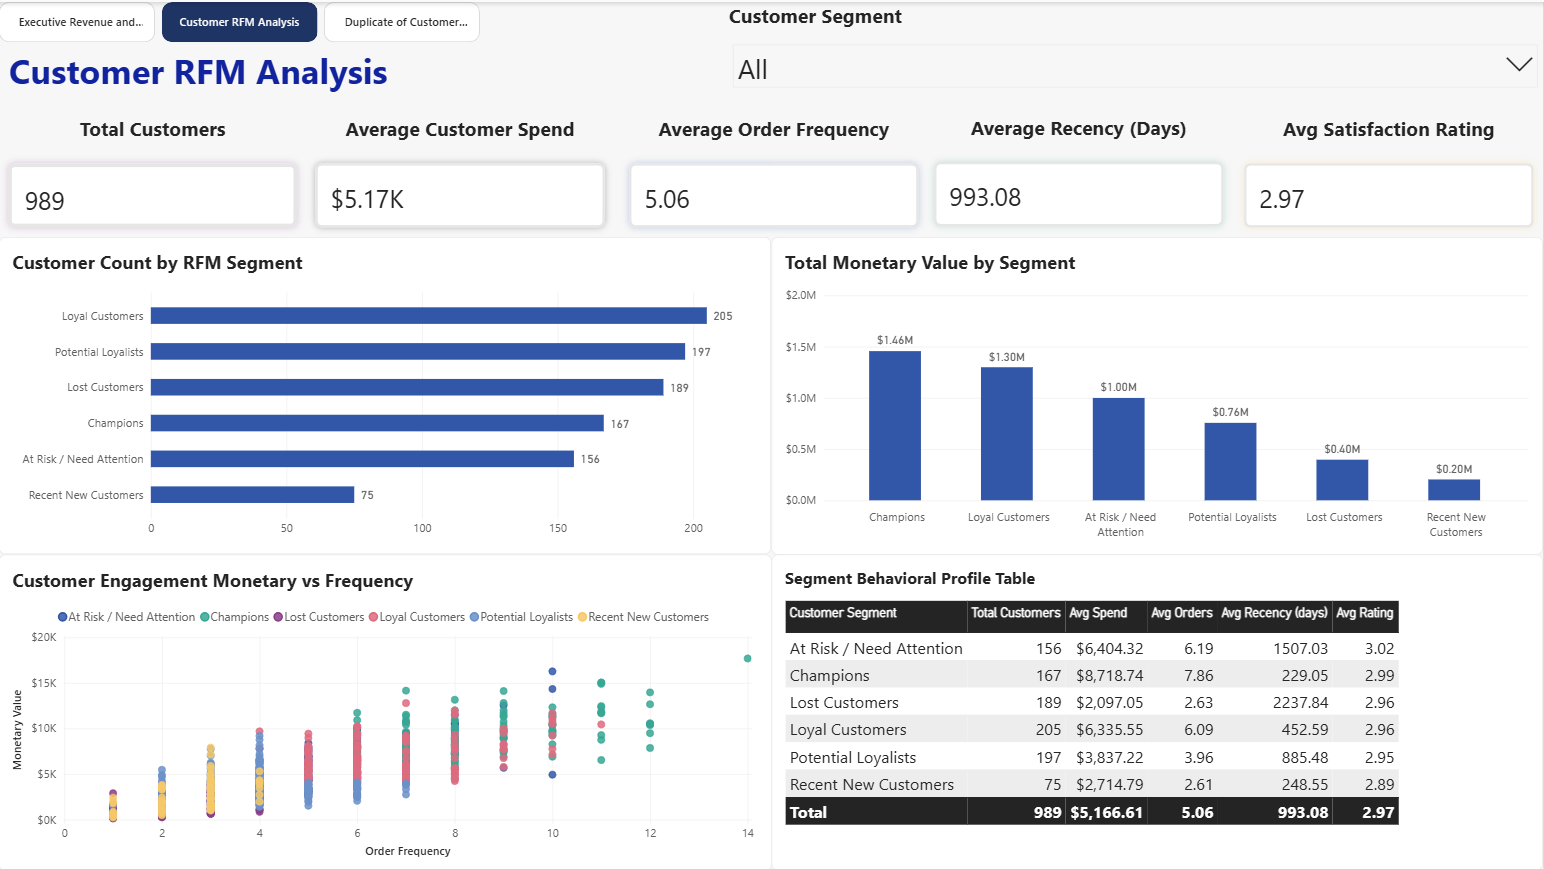

The page's visual inventory and layout, read from the dashboard file:
{"tool":"powerbi","page":{"name":"Customer RFM Analysis","canvas":[1920,1080],"ordinal":1},"visuals":[{"type":"textbox","box":[12.6,0,895.3,120.4],"z":0},{"type":"cardVisual","title":"Average Recency (Days)","fields":{"Data":["Avg(vw_customer_rfm_segments.recency_days)"]},"box":[1152.4,140.2,382,150.5],"z":1000},{"type":"cardVisual","title":"Average Customer Spend","fields":{"Data":["Avg(vw_customer_rfm_segments.monetary)"]},"box":[382.6,142.1,382,150],"z":2000},{"type":"cardVisual","title":"Average Order Frequency","fields":{"Data":["Avg(vw_customer_rfm_segments.frequency)"]},"box":[771.8,142.1,382,150],"z":3000},{"type":"cardVisual","title":"Total Customers","fields":{"Data":["_Measures.Total Customers"]},"box":[0,142,382,150],"z":4000},{"type":"cardVisual","title":"Avg Satisfaction Rating","fields":{"Data":["Avg(vw_customer_rfm_segments.avg_rating)"]},"box":[1537,142.1,382,150],"z":5000},{"type":"slicer","title":"Customer Segment","fields":{"Values":["vw_customer_rfm_segments.customer_segment"]},"box":[907.9,0,1010.3,120.4],"z":6000},{"type":"clusteredBarChart","title":"Customer Count by RFM Segment","fields":{"Category":["vw_customer_rfm_segments.customer_segment"],"Y":["CountNonNull(vw_customer_rfm_segments.customer_id)"]},"box":[0,293,960,394],"z":8000},{"type":"clusteredColumnChart","title":"Total Monetary Value by Segment","fields":{"Category":["vw_customer_rfm_segments.customer_segment"],"Y":["Sum(vw_customer_rfm_segments.monetary)"]},"box":[960.9,291.9,959.1,395.2],"z":9000},{"type":"scatterChart","title":"Customer Engagement   Monetary vs Frequency","fields":{"Category":["vw_customer_rfm_segments.customer_id"],"Series":["vw_customer_rfm_segments.customer_segment"],"X":["vw_customer_rfm_segments.frequency"],"Y":["vw_customer_rfm_segments.monetary"]},"box":[0,687.1,960.9,393.4],"z":10000},{"type":"tableEx","title":"Segment Behavioral Profile Table","fields":{"Values":["vw_customer_rfm_segments.customer_segment","vw_customer_rfm_segments.customer_id","vw_customer_rfm_segments.monetary","vw_customer_rfm_segments.frequency","vw_customer_rfm_segments.recency_days","vw_customer_rfm_segments.avg_rating"]},"box":[961,687,959,393],"z":11000},{"type":"pageNavigator","box":[0,0,600,50],"z":11001}]}

Visuals, with their boxes on the page's 1920x1080 design canvas (x1, y1, x2, y2). These are canvas units, not pixel positions in the 1544x869 screenshot, which may show the page scaled, cropped or inside an application window:
textbox: x1=13 y1=0 x2=908 y2=120
"Average Recency (Days)" cardVisual: x1=1152 y1=140 x2=1534 y2=291
"Average Customer Spend" cardVisual: x1=383 y1=142 x2=765 y2=292
"Average Order Frequency" cardVisual: x1=772 y1=142 x2=1154 y2=292
"Total Customers" cardVisual: x1=0 y1=142 x2=382 y2=292
"Avg Satisfaction Rating" cardVisual: x1=1537 y1=142 x2=1919 y2=292
"Customer Segment" slicer: x1=908 y1=0 x2=1918 y2=120
"Customer Count by RFM Segment" clusteredBarChart: x1=0 y1=293 x2=960 y2=687
"Total Monetary Value by Segment" clusteredColumnChart: x1=961 y1=292 x2=1920 y2=687
"Customer Engagement   Monetary vs Frequency" scatterChart: x1=0 y1=687 x2=961 y2=1080
"Segment Behavioral Profile Table" tableEx: x1=961 y1=687 x2=1920 y2=1080
pageNavigator: x1=0 y1=0 x2=600 y2=50
